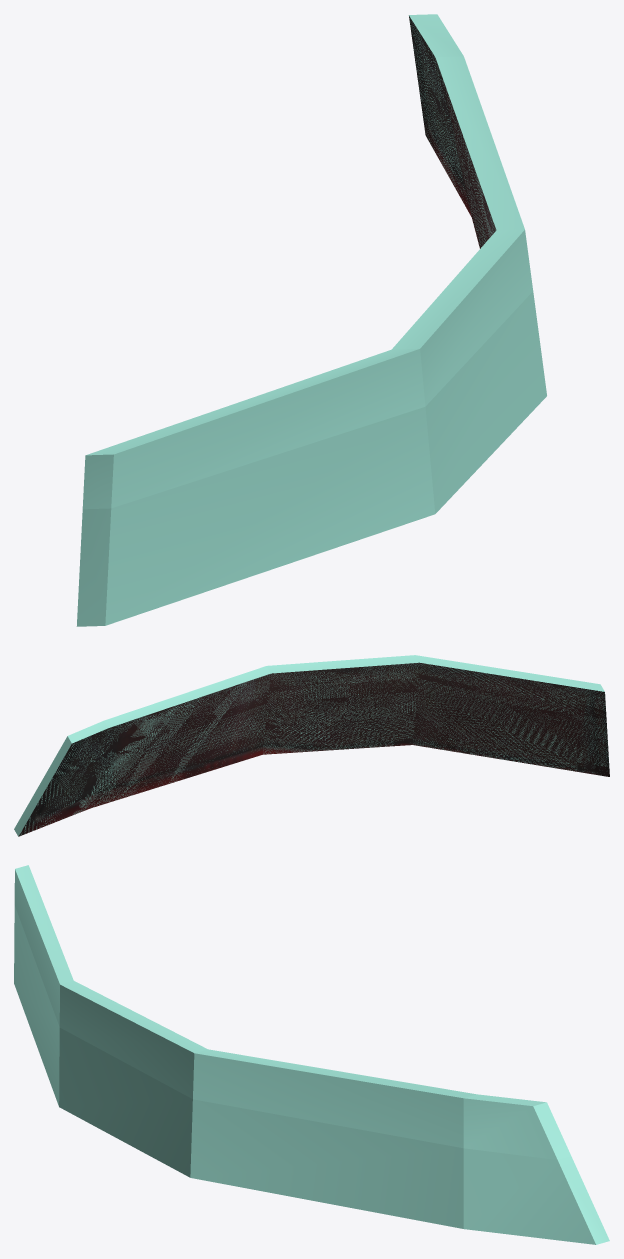
Rendered from SampleCar_01_Rear_R.fbx.
The picture shows the model from 3 angles, top to bottom: view 1: azimuth 30°, elevation 25°; view 2: azimuth 150°, elevation 25°; view 3: azimuth 270°, elevation 25°; orthographic projection. The views are drawn at different scales.
Visible parts, largest first — view 1: UTM_glass_003, glass_003_LOD0; view 2: glass_003_LOD0, UTM_glass_003; view 3: UTM_glass_003.
Boxes of the visible parts, x1=… form: UTM_glass_003: x1=76, y1=14, x2=546, y2=626; glass_003_LOD0: x1=409, y1=16, x2=496, y2=248; glass_003_LOD0: x1=18, y1=662, x2=609, y2=836; UTM_glass_003: x1=14, y1=655, x2=608, y2=836; UTM_glass_003: x1=14, y1=865, x2=609, y2=1244.
Size of the model in its own units: 27.09 by 5.75 by 25.54.
